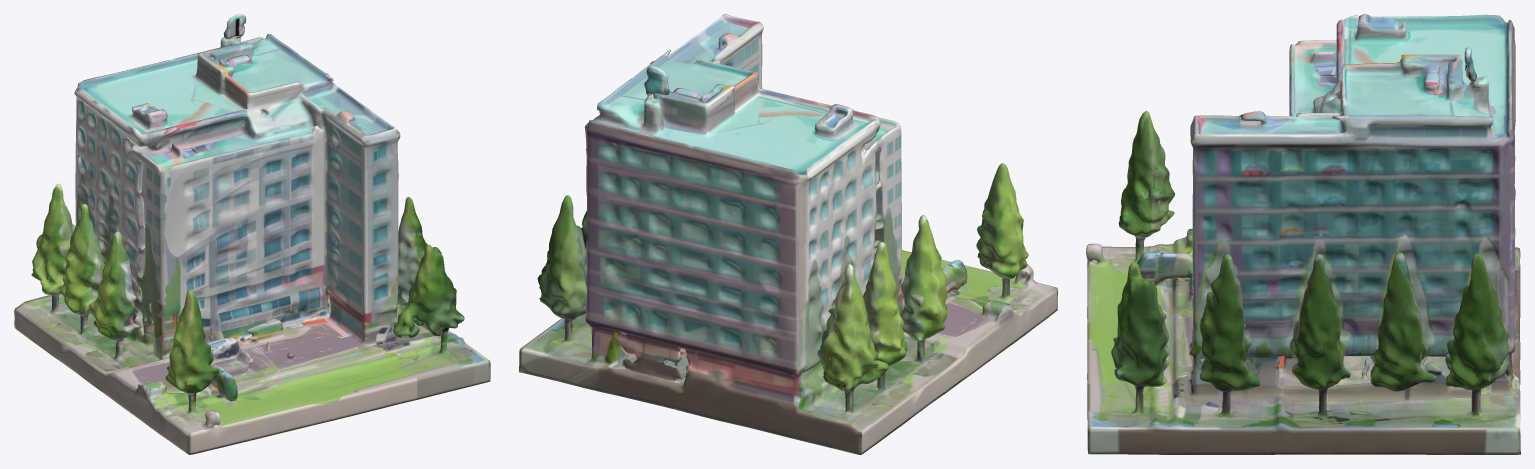
Rendered from pharmacy5.glb.
3 renders of one model, left to right at view 1: azimuth 30°, elevation 25°; view 2: azimuth 150°, elevation 25°; view 3: azimuth 270°, elevation 25°, orthographic. The views are drawn at different scales.
Bounding box in the file's own units: 2.01 × 1.77 × 2.01.
Materials: 1 (1 with a texture image).
